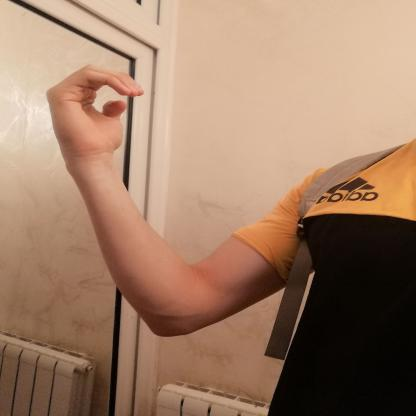JEEM: (29, 55, 159, 172)
